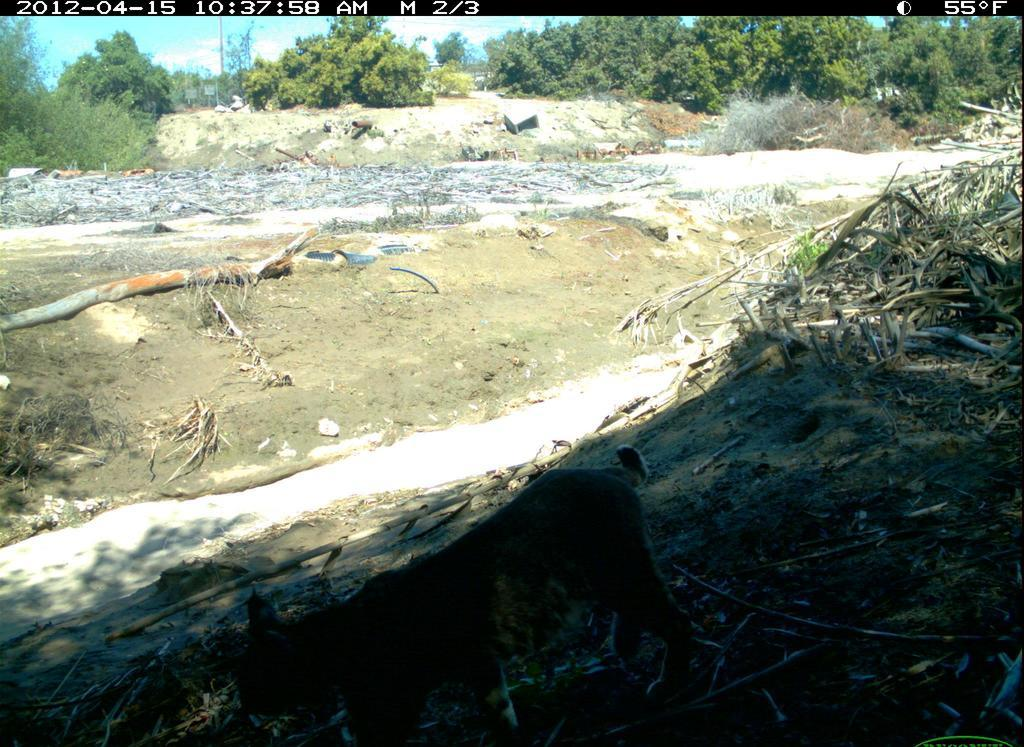bobcat: (208, 434, 720, 747)
